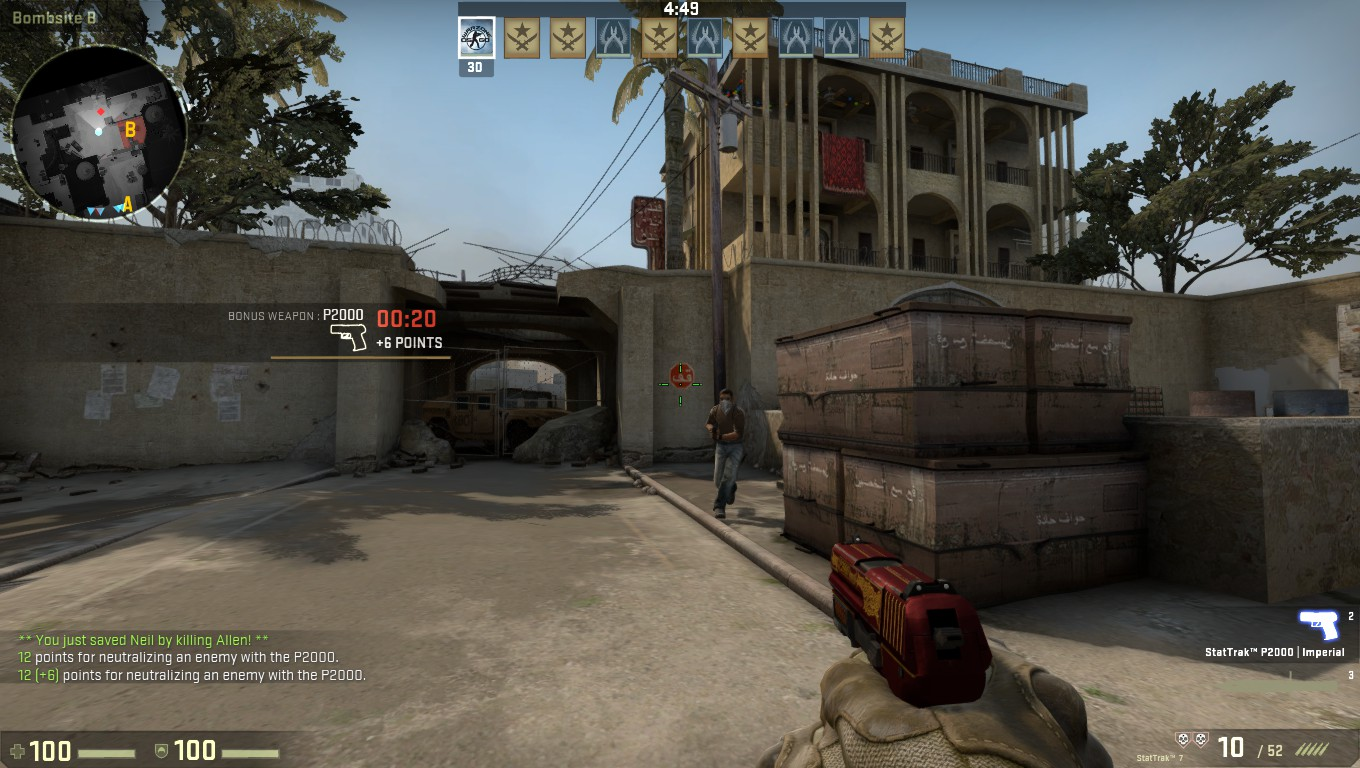t: (705, 386, 742, 517)
th: (716, 388, 734, 413)
